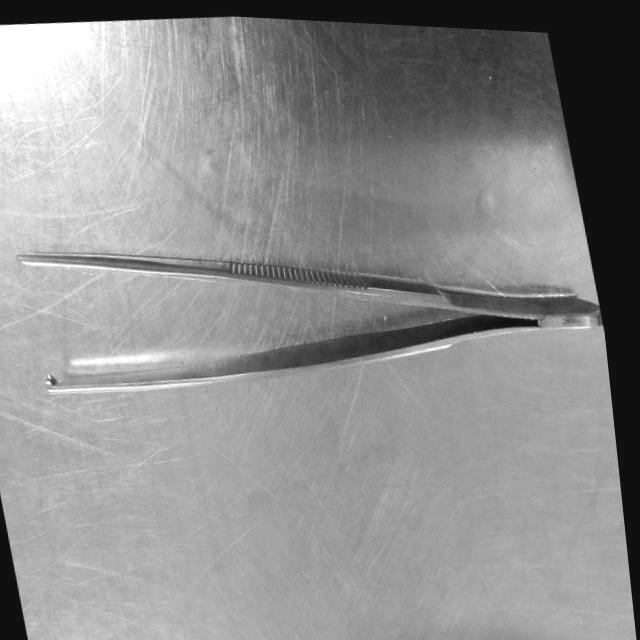General: (0, 14, 638, 640), (12, 247, 603, 397)
Sharps: (14, 251, 600, 325)
